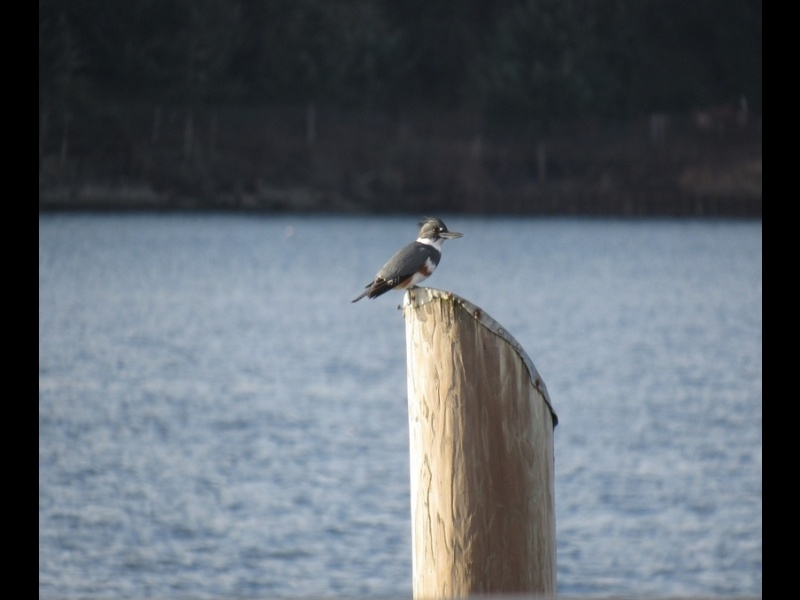kingfisher: (350, 215, 463, 308)
